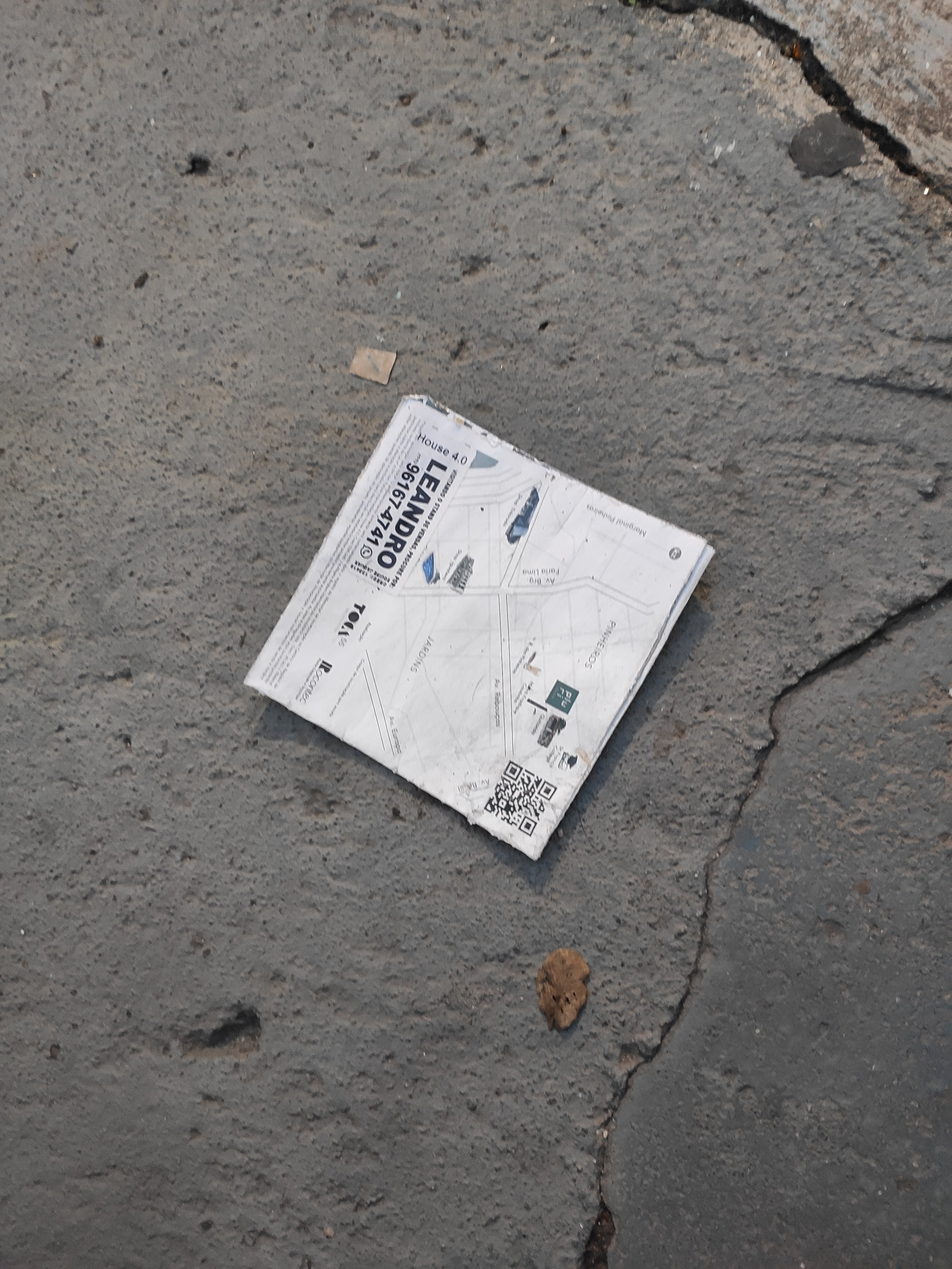QR-CODE: (484, 760, 557, 837)
